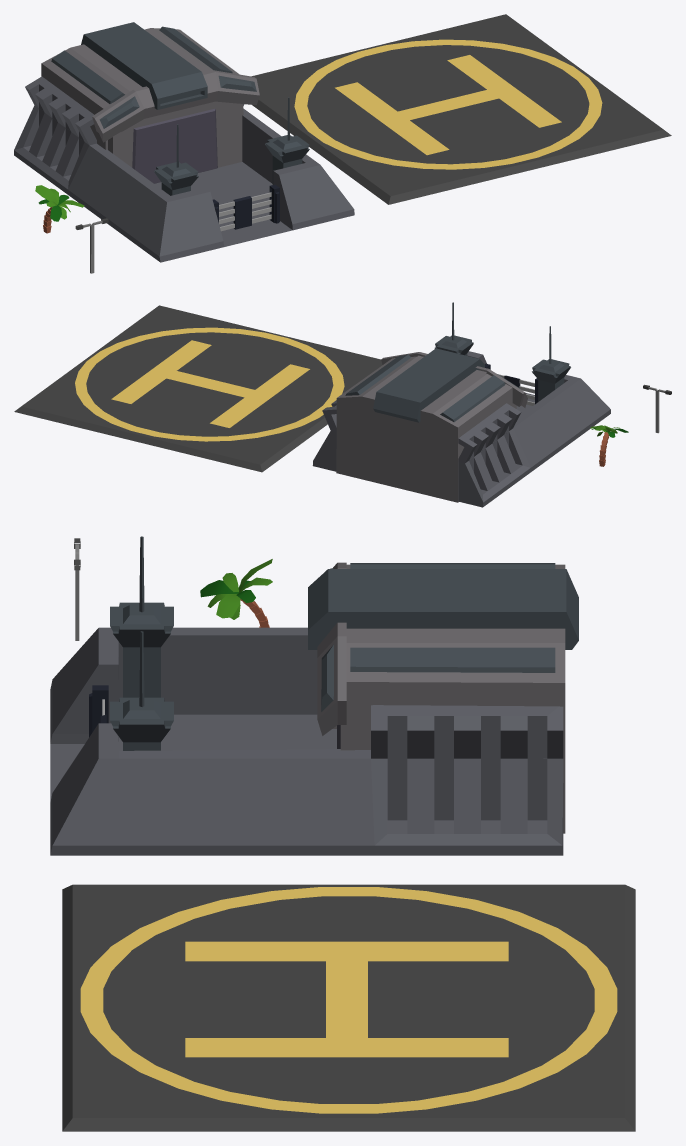
The picture shows the model from 3 angles, top to bottom: view 1: azimuth 30°, elevation 25°; view 2: azimuth 150°, elevation 25°; view 3: azimuth 270°, elevation 25°; orthographic projection. The views are drawn at different scales.
Parts seen in each view (by area): view 1: Helipuerto, Gate, Building, Palmera; view 2: Helipuerto, Building, Gate, Palmera; view 3: Helipuerto, Gate, Building, Palmera.
Part boxes in pixels (x1=…): Helipuerto: x1=251, y1=14, x2=671, y2=204; Gate: x1=14, y1=76, x2=354, y2=262; Building: x1=41, y1=22, x2=259, y2=183; Palmera: x1=35, y1=185, x2=84, y2=233; Helipuerto: x1=14, y1=305, x2=382, y2=472; Building: x1=336, y1=348, x2=527, y2=502; Gate: x1=312, y1=302, x2=610, y2=507; Palmera: x1=590, y1=425, x2=628, y2=466; Helipuerto: x1=62, y1=884, x2=635, y2=1131; Gate: x1=50, y1=536, x2=563, y2=855; Building: x1=308, y1=562, x2=578, y2=833; Palmera: x1=200, y1=559, x2=272, y2=627.
Bounding box in the file's own units: 210 × 37.35 × 103.
